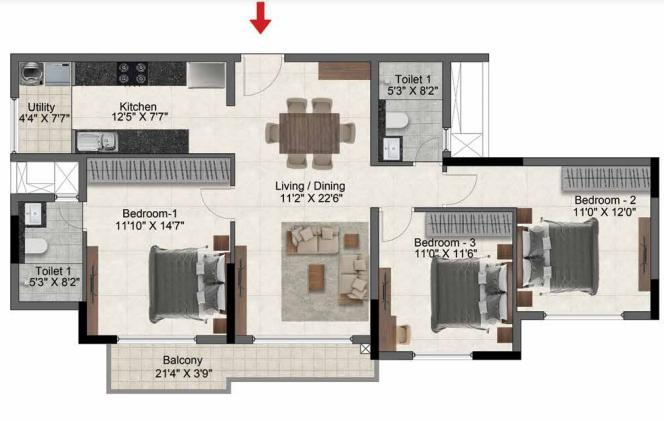Balcony: (109, 345, 378, 393)
Bed: (429, 257, 512, 331), (147, 248, 230, 319), (520, 219, 596, 291)
Bedroom: (82, 157, 231, 337), (517, 161, 657, 317), (376, 208, 519, 358)
Dining Room: (234, 57, 370, 211)
Dining table: (263, 95, 357, 174)
Kitchen: (73, 58, 231, 153)
Living Room: (233, 207, 369, 342)
Sofa: (283, 226, 340, 255), (338, 253, 370, 302)
Wardrobe: (86, 159, 229, 184), (557, 164, 649, 190), (427, 212, 512, 235)
commode: (383, 113, 408, 130), (24, 238, 48, 254)
door: (245, 55, 283, 95), (440, 171, 477, 206), (376, 207, 411, 243), (201, 187, 232, 218), (60, 200, 88, 232), (417, 136, 448, 160)
fridge: (186, 61, 225, 88)
kitchen-slab: (76, 59, 188, 88), (76, 129, 188, 153)
sink: (76, 133, 117, 155), (379, 137, 403, 160), (22, 203, 42, 226)
stove: (118, 60, 149, 85)
toilet: (375, 59, 450, 164), (16, 197, 82, 302)
tv: (377, 268, 400, 352), (233, 246, 248, 334), (86, 246, 101, 334), (641, 218, 653, 286)
utility: (14, 58, 75, 153)
washing-machine: (43, 61, 71, 88)
